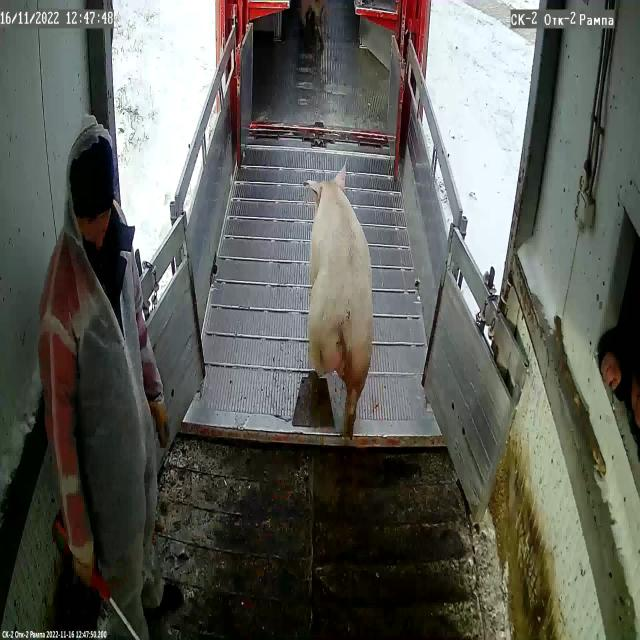pig: (304, 166, 373, 435)
